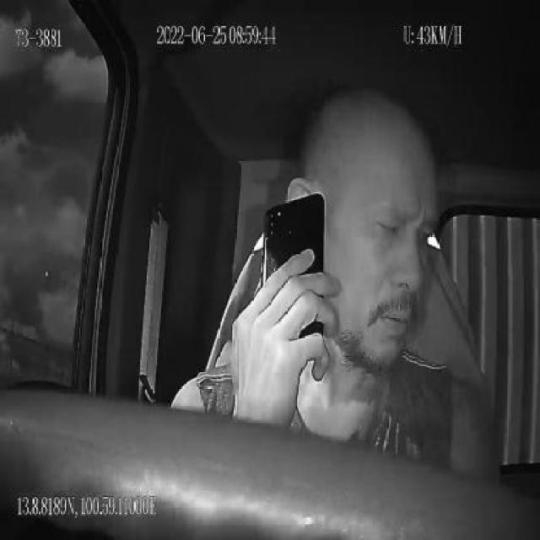phone: (262, 190, 326, 364)
